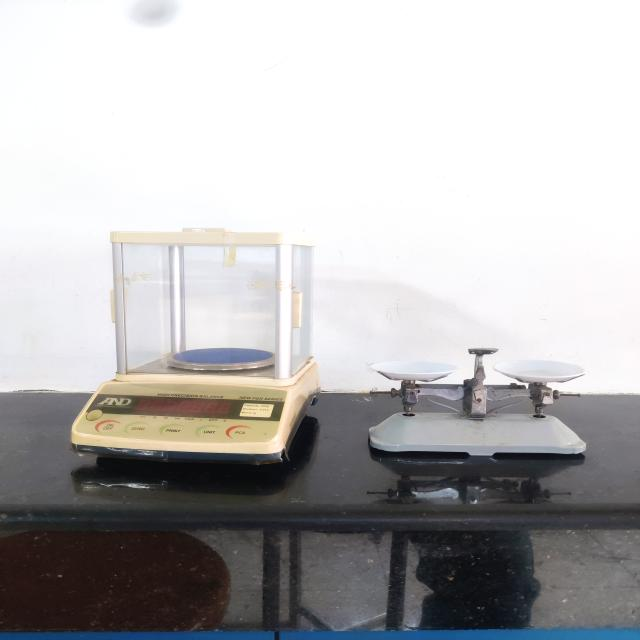Mechanical_Balance_Scale: (356, 331, 595, 482)
Precision_Weight_Scale: (56, 213, 337, 512)
